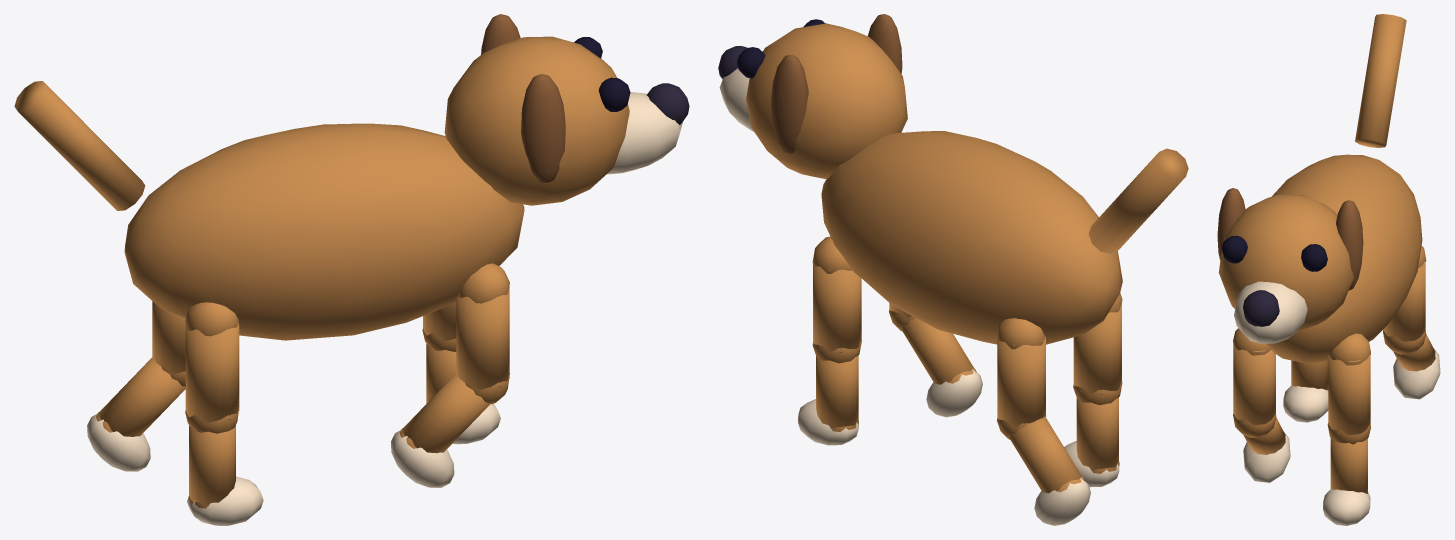
File: pes_bezi.glb
The picture shows the model from 3 angles, left to right: view 1: azimuth 30°, elevation 25°; view 2: azimuth 150°, elevation 25°; view 3: azimuth 270°, elevation 25°; orthographic projection. The views are drawn at different scales.
Visible parts, largest first — view 1: Sphere, Sphere.002, Cylinder, Cylinder.005, Cylinder.001, Sphere.006, Cylinder.008, Cylinder.002, Sphere.003, Cylinder.006, Sphere.028, Sphere.013 (+10 smaller); view 2: Sphere, Sphere.002, Cylinder, Cylinder.007, Cylinder.003, Cylinder.005, Cylinder.008, Sphere.008, Cylinder.004, Cylinder.006, Cylinder.002, Sphere.013 (+10 smaller); view 3: Sphere, Sphere.002, Cylinder, Cylinder.003, Cylinder.001, Sphere.003, Cylinder.004, Cylinder.007, Sphere.018, Sphere.008, Sphere.023, Sphere.013 (+13 smaller).
Boxes of the visible parts, left/top/right/bottom form: Sphere: left=124, top=123, right=524, bottom=340; Sphere.002: left=444, top=36, right=629, bottom=205; Cylinder: left=14, top=81, right=145, bottom=210; Cylinder.005: left=185, top=322, right=239, bottom=422; Cylinder.001: left=456, top=287, right=509, bottom=389; Sphere.006: left=521, top=74, right=565, bottom=183; Cylinder.008: left=99, top=357, right=185, bottom=436; Cylinder.002: left=403, top=373, right=490, bottom=453; Sphere.003: left=607, top=92, right=682, bottom=174; Cylinder.006: left=189, top=425, right=235, bottom=506; Sphere.028: left=87, top=413, right=150, bottom=471; Sphere.013: left=391, top=429, right=454, bottom=487; Sphere: left=821, top=131, right=1122, bottom=344; Sphere.002: left=746, top=23, right=907, bottom=179; Cylinder: left=1088, top=148, right=1188, bottom=253; Cylinder.007: left=997, top=334, right=1045, bottom=427; Cylinder.003: left=813, top=259, right=861, bottom=352; Cylinder.005: left=1073, top=303, right=1121, bottom=394; Cylinder.008: left=1009, top=416, right=1081, bottom=493; Sphere.008: left=770, top=55, right=808, bottom=153; Cylinder.004: left=816, top=355, right=858, bottom=428; Cylinder.006: left=1076, top=397, right=1118, bottom=470; Cylinder.002: left=901, top=318, right=973, bottom=384; Sphere.013: left=926, top=369, right=982, bottom=417; Sphere: left=1266, top=154, right=1422, bottom=363; Sphere.002: left=1218, top=194, right=1353, bottom=331; Cylinder: left=1355, top=14, right=1406, bottom=147; Cylinder.003: left=1328, top=354, right=1370, bottom=434; Cylinder.001: left=1233, top=344, right=1275, bottom=424; Sphere.003: left=1234, top=281, right=1307, bottom=343; Cylinder.004: left=1330, top=438, right=1367, bottom=493; Cylinder.007: left=1383, top=261, right=1425, bottom=341; Sphere.018: left=1323, top=489, right=1370, bottom=525; Sphere.008: left=1336, top=200, right=1363, bottom=290; Sphere.023: left=1283, top=385, right=1328, bottom=422; Sphere.013: left=1243, top=432, right=1290, bottom=482.
Size of the model in its own units: 1.02 by 0.7163 by 0.4111.
